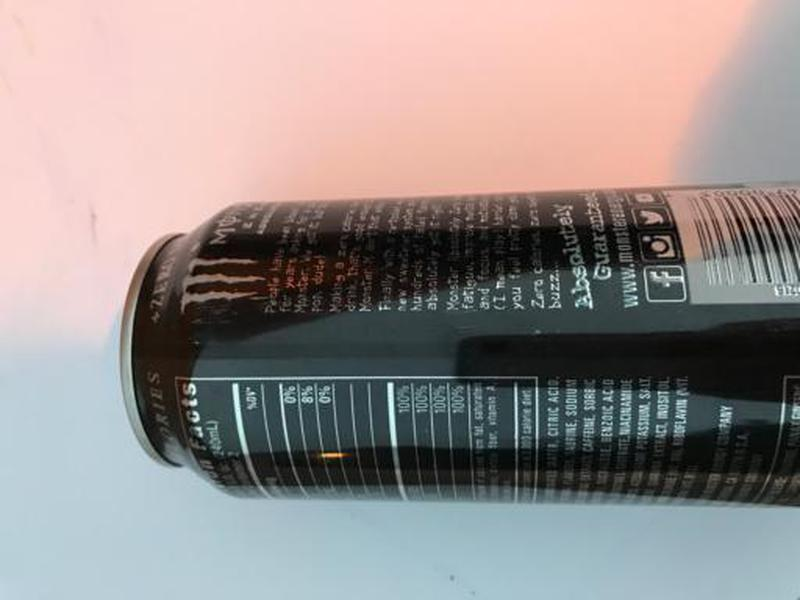can: (113, 179, 800, 513)
